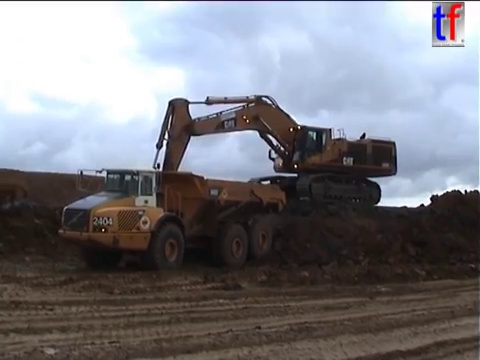excavator: (145, 92, 401, 236)
truck: (55, 160, 289, 275), (1, 168, 35, 215)
